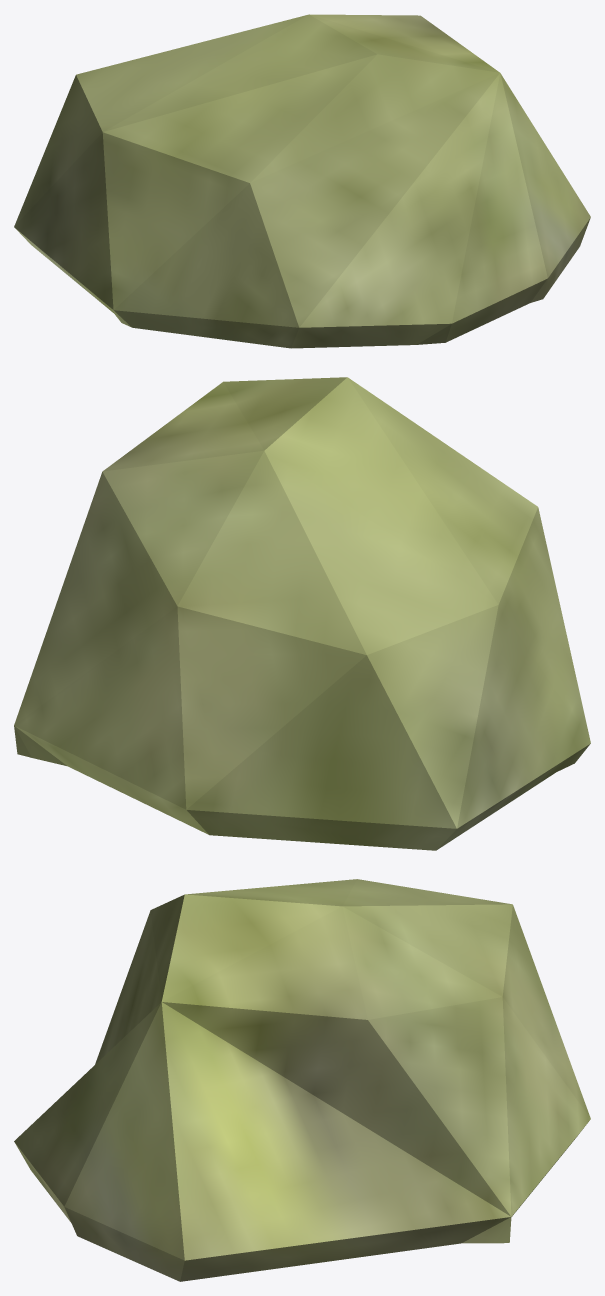
3 views of the same model, one above another, from view 1: azimuth 30°, elevation 25°; view 2: azimuth 150°, elevation 25°; view 3: azimuth 270°, elevation 25° (orthographic). The views are drawn at different scales.
Bounding box in the file's own units: 0.29 × 0.1489 × 0.283.
1 material, 1 textured.
